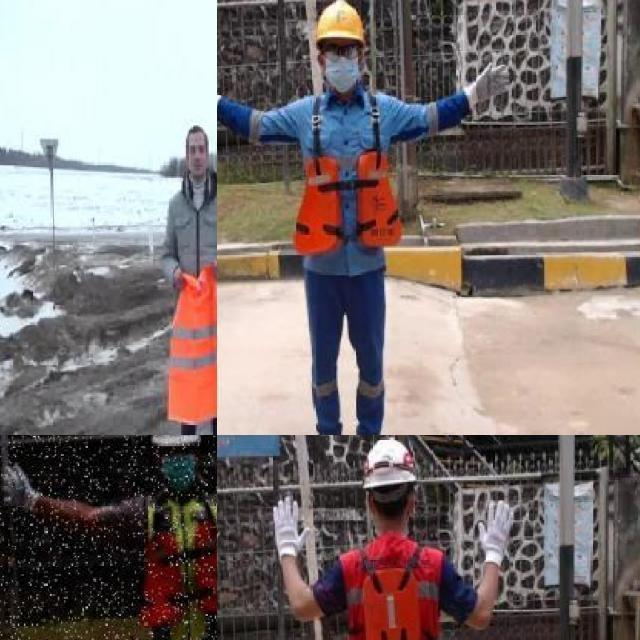apron: (474, 501, 519, 569), (0, 456, 41, 524), (462, 58, 510, 115), (268, 494, 308, 560)
